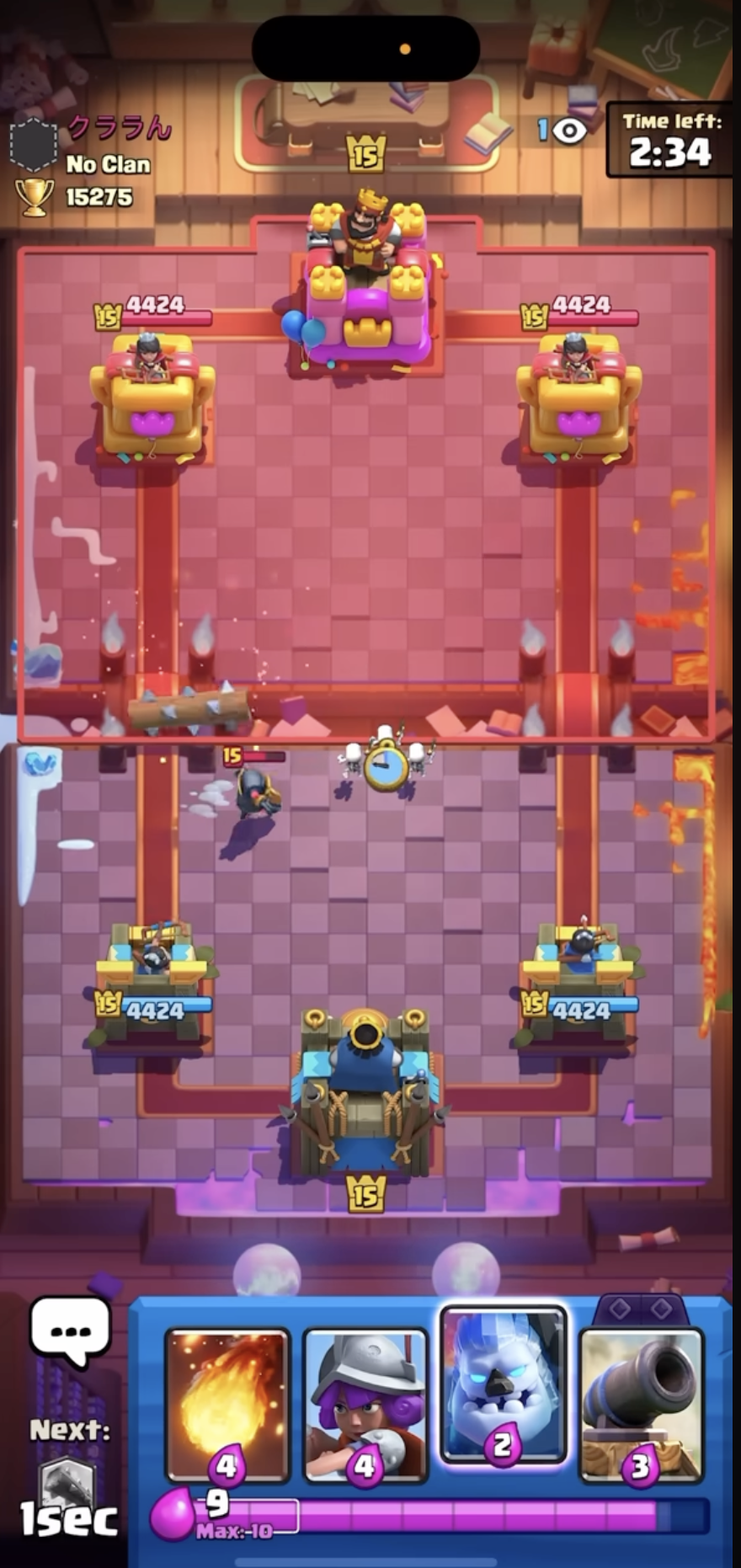mini-pekka: (217, 737, 291, 823)
